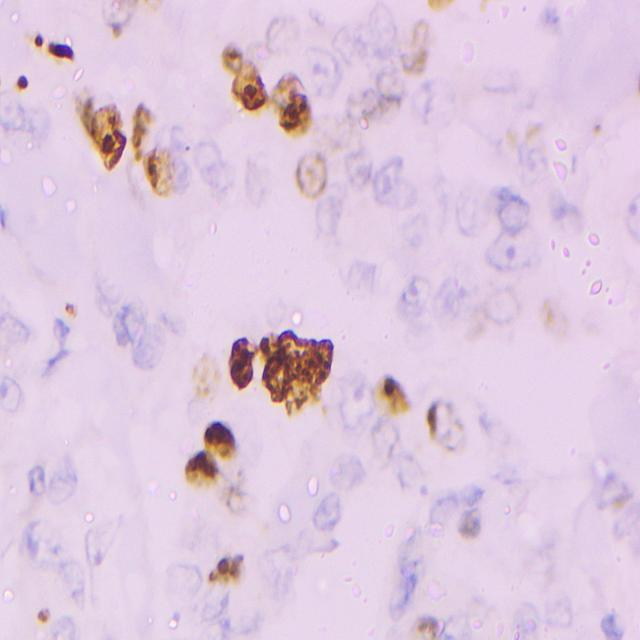Healthy cell: (127, 303, 171, 369), (203, 594, 265, 640), (483, 232, 537, 278), (335, 362, 370, 432), (167, 557, 201, 624), (21, 520, 62, 572), (492, 180, 530, 234), (262, 540, 297, 598), (106, 296, 138, 359), (302, 41, 338, 96), (380, 174, 415, 224), (362, 150, 398, 198), (395, 273, 430, 322), (83, 523, 120, 569), (64, 560, 94, 616), (312, 493, 346, 542), (422, 72, 448, 136), (192, 145, 227, 189), (0, 371, 28, 424), (390, 453, 430, 490), (543, 192, 575, 238), (340, 254, 375, 296), (428, 275, 458, 322), (481, 290, 514, 332), (47, 453, 73, 505), (342, 144, 369, 192), (315, 200, 345, 243), (330, 452, 361, 493), (32, 99, 59, 144), (369, 419, 400, 452), (2, 99, 26, 133)
cancer-cell-QiJm: (282, 321, 334, 416), (70, 94, 130, 174), (89, 0, 175, 38), (366, 376, 421, 425), (182, 349, 231, 404), (359, 86, 411, 133), (392, 16, 437, 70), (225, 333, 256, 403), (429, 398, 470, 450), (534, 295, 570, 353), (225, 68, 268, 114), (203, 419, 238, 473), (205, 542, 242, 593), (292, 147, 331, 195), (214, 472, 250, 522), (176, 450, 219, 490), (244, 145, 274, 201), (277, 94, 313, 140), (133, 102, 154, 176), (263, 10, 298, 53), (450, 506, 488, 545), (49, 29, 78, 80), (259, 356, 288, 406), (213, 42, 252, 79), (501, 113, 546, 144), (396, 562, 414, 627), (273, 67, 305, 103), (148, 152, 174, 196), (404, 607, 438, 640), (418, 0, 488, 13), (604, 483, 630, 518), (26, 25, 51, 57), (30, 606, 53, 637), (584, 119, 612, 143), (259, 330, 282, 357), (60, 297, 83, 318), (6, 73, 34, 88)
